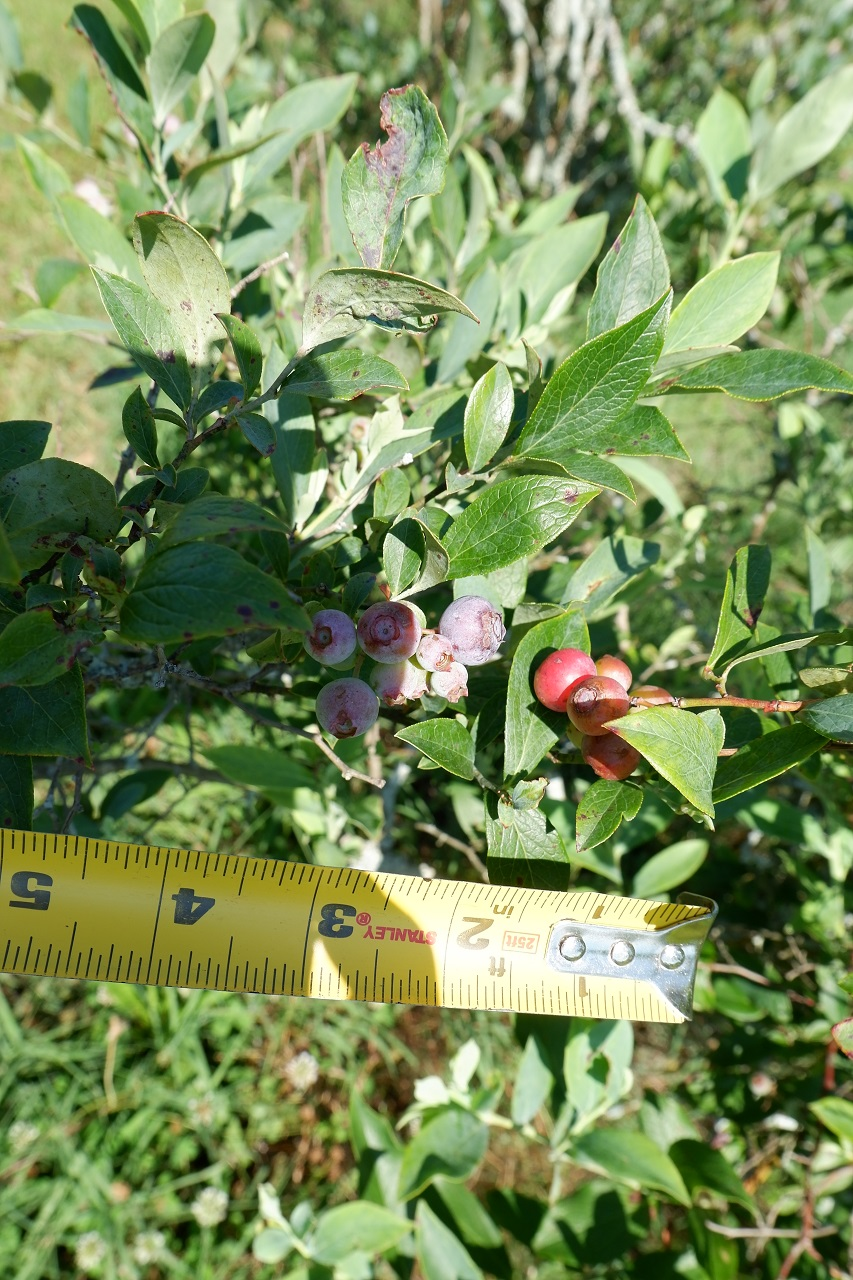Immature: (439, 596, 506, 665), (534, 648, 597, 711), (357, 602, 422, 663), (316, 676, 379, 738), (567, 676, 630, 736), (302, 609, 357, 665), (581, 731, 641, 779), (370, 659, 417, 706), (430, 661, 469, 703), (594, 653, 633, 692), (416, 634, 455, 672), (627, 686, 675, 715), (407, 653, 432, 700), (325, 639, 361, 670), (396, 600, 427, 634), (567, 722, 584, 749)
